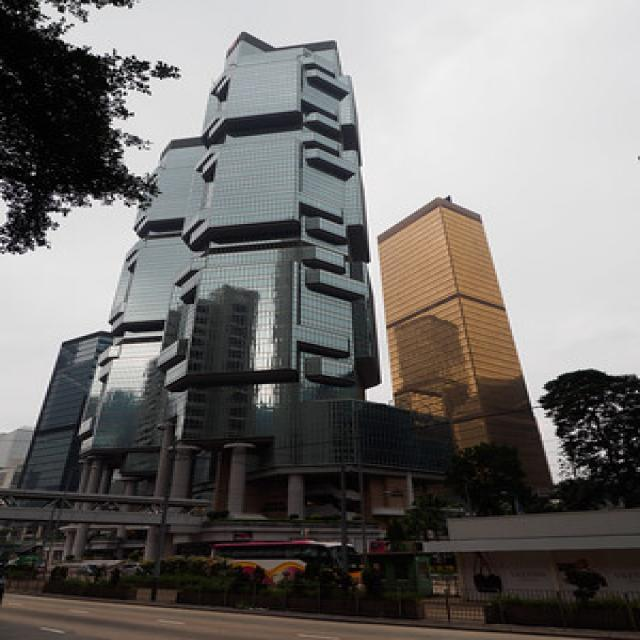Normal_building: (19, 25, 461, 540), (372, 190, 562, 512)
